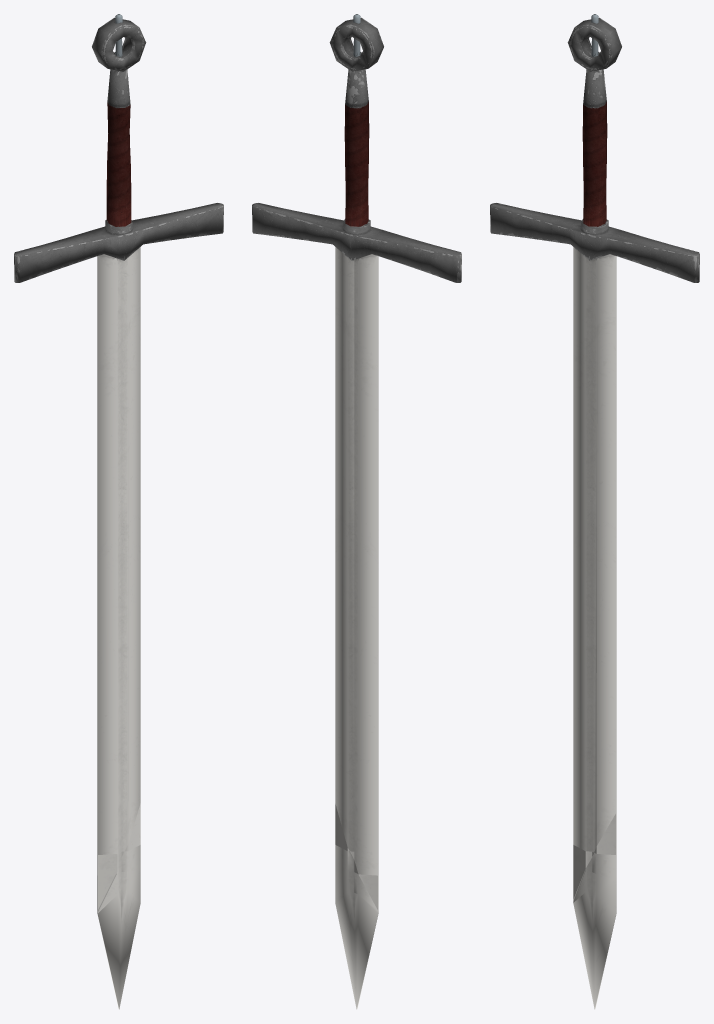
Rendered from Sword.fbx.
The picture shows the model from 3 angles, left to right: view 1: azimuth 30°, elevation 25°; view 2: azimuth 150°, elevation 25°; view 3: azimuth 330°, elevation 25°; orthographic projection.
Parts seen in each view (by area): view 1: Mesh; view 2: Mesh; view 3: Mesh.
Part boxes in pixels (box(x1,y1,x2,y2)): Mesh: box(14, 14, 223, 1009); Mesh: box(252, 14, 461, 1009); Mesh: box(490, 14, 699, 1009).
Bounding box in the file's own units: 0.5185 × 2.37 × 0.0605.
1 material, 1 textured.
